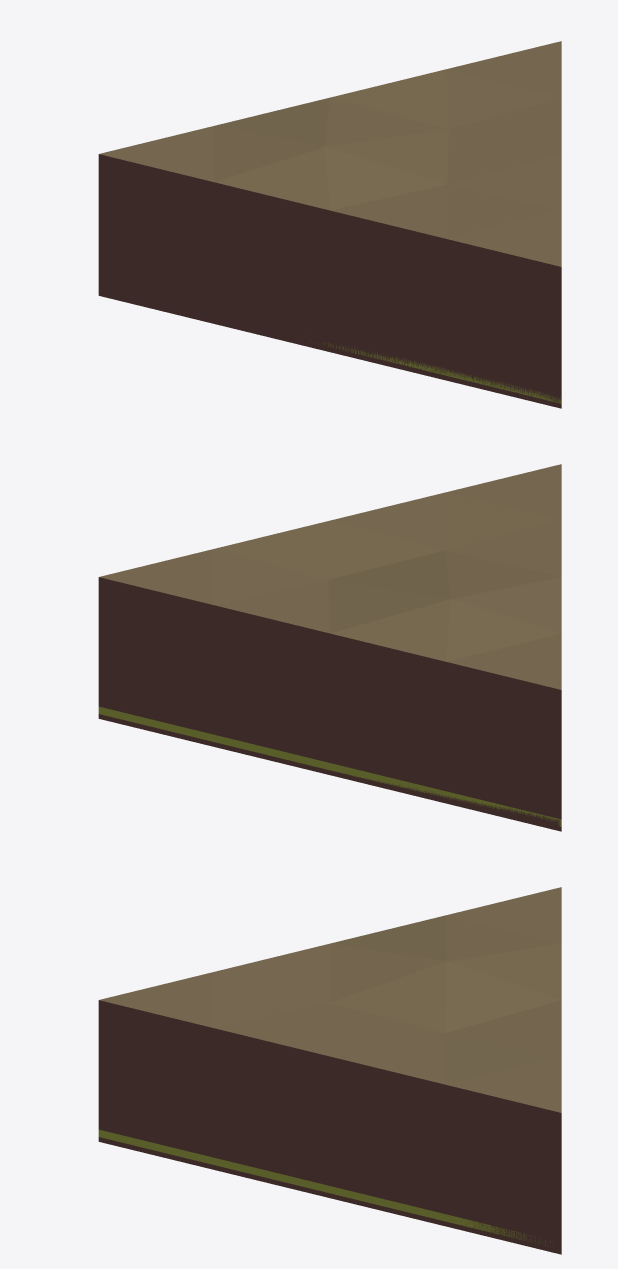
The model's file is tile1.glb.
3 renders of one model, top to bottom at view 1: azimuth 30°, elevation 25°; view 2: azimuth 150°, elevation 25°; view 3: azimuth 270°, elevation 25°, orthographic.
Parts seen in each view (by area): view 1: top.001, ground.001; view 2: top.001, ground.001; view 3: top.001, ground.001.
Boxes of the visible parts, x1,y1,x2,y2 form: top.001: (98, 41, 561, 408); ground.001: (324, 342, 561, 403); top.001: (98, 464, 561, 831); ground.001: (98, 706, 561, 826); top.001: (98, 887, 561, 1254); ground.001: (98, 1129, 550, 1245).
Bounding box in the file's own units: 1.27 × 0.3086 × 1.1.
